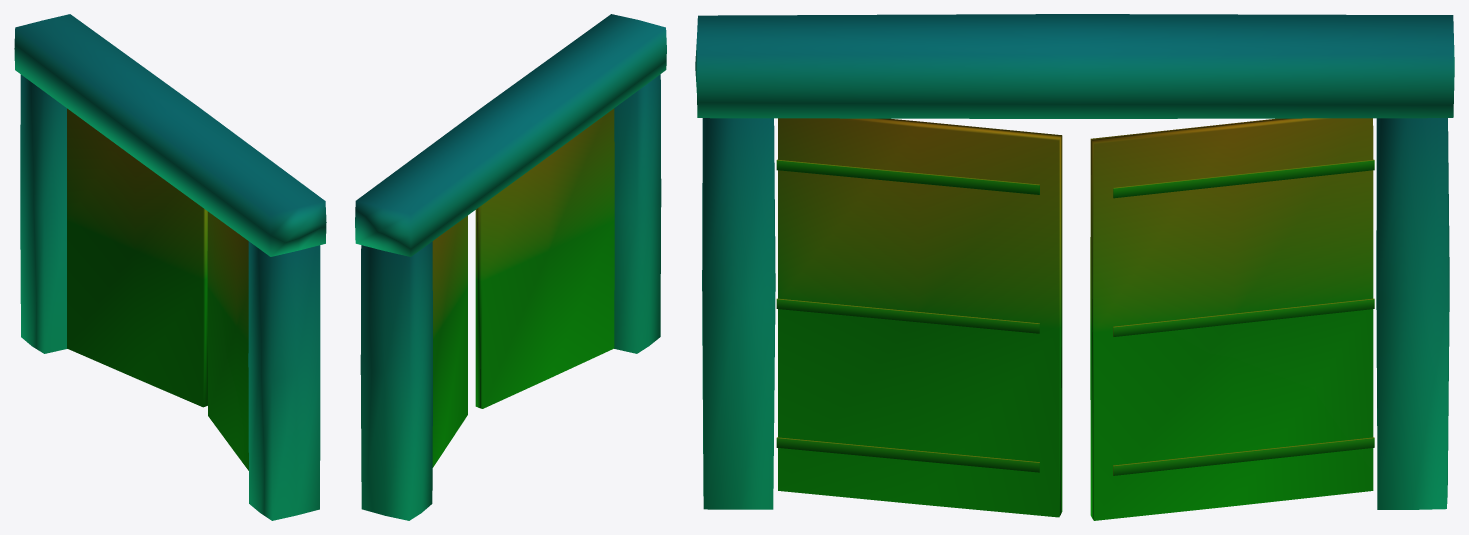
Rendered from wall_gate.glb.
3 views of the same model, side by side, from view 1: azimuth 30°, elevation 25°; view 2: azimuth 150°, elevation 25°; view 3: azimuth 270°, elevation 25° (orthographic). The views are drawn at different scales.
Visible parts, largest first — view 1: wall_gate; view 2: wall_gate; view 3: wall_gate.
Part boxes in pixels (left/top/right/bottom): wall_gate: left=14, top=14, right=326, bottom=520; wall_gate: left=355, top=14, right=666, bottom=520; wall_gate: left=695, top=14, right=1454, bottom=520.
Size of what is drawn, in the model's own units: 1.04 by 4.16 by 6.2.
